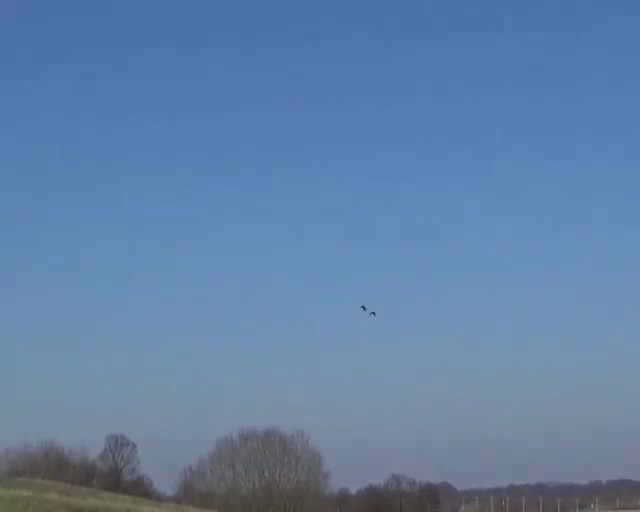BIRD: (361, 305, 376, 316)
